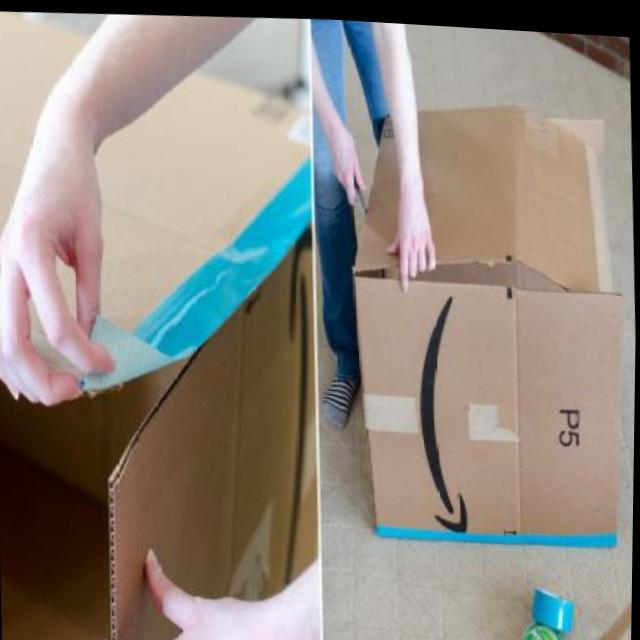box: (0, 0, 329, 640), (346, 87, 631, 548)
